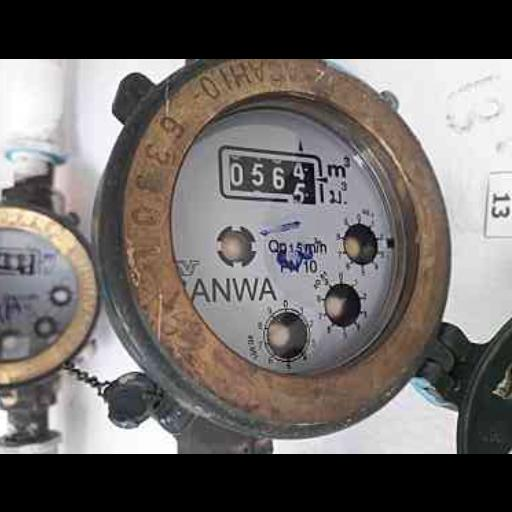0: (229, 153, 249, 191)
4: (291, 159, 316, 204)
5: (249, 155, 270, 193)
6: (269, 156, 291, 194)
border_water_meter_number: (215, 144, 328, 205)
